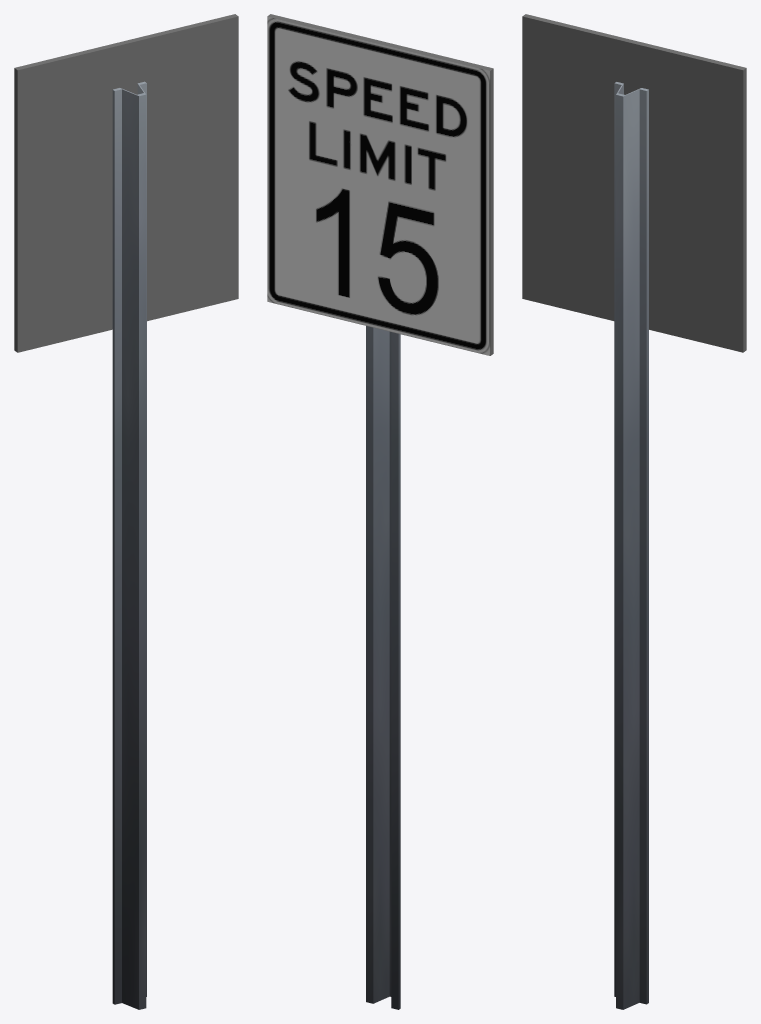
Rendered from warning_speed_slow.obj.
3 views of the same model, side by side, from view 1: azimuth 30°, elevation 25°; view 2: azimuth 150°, elevation 25°; view 3: azimuth 330°, elevation 25° (orthographic).
Parts seen in each view (by area): view 1: Mesh; view 2: Mesh; view 3: Mesh.
Boxes of the visible parts, x1,y1,x2,y2 form: Mesh: [14, 14, 238, 1009]; Mesh: [267, 14, 493, 1009]; Mesh: [522, 14, 746, 1009].
Bounding box in the file's own units: 0.1244 × 0.5142 × 0.0168.
